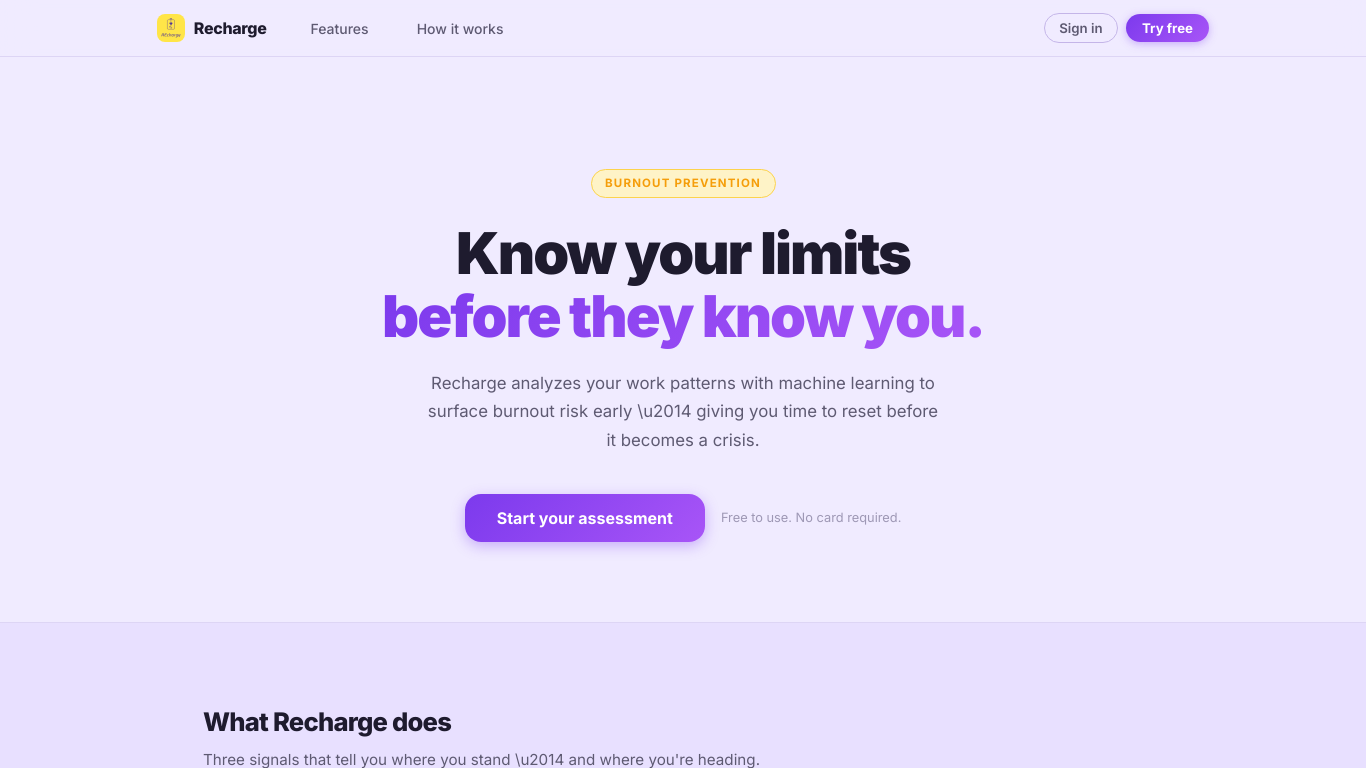
Test case: Auth modal › opens in signup mode when "Try free" is clicked
The image size is (1366, 768).
Click the button "Try free". click: (1168, 28)
box: x1=1126 y1=14 x2=1209 y2=42
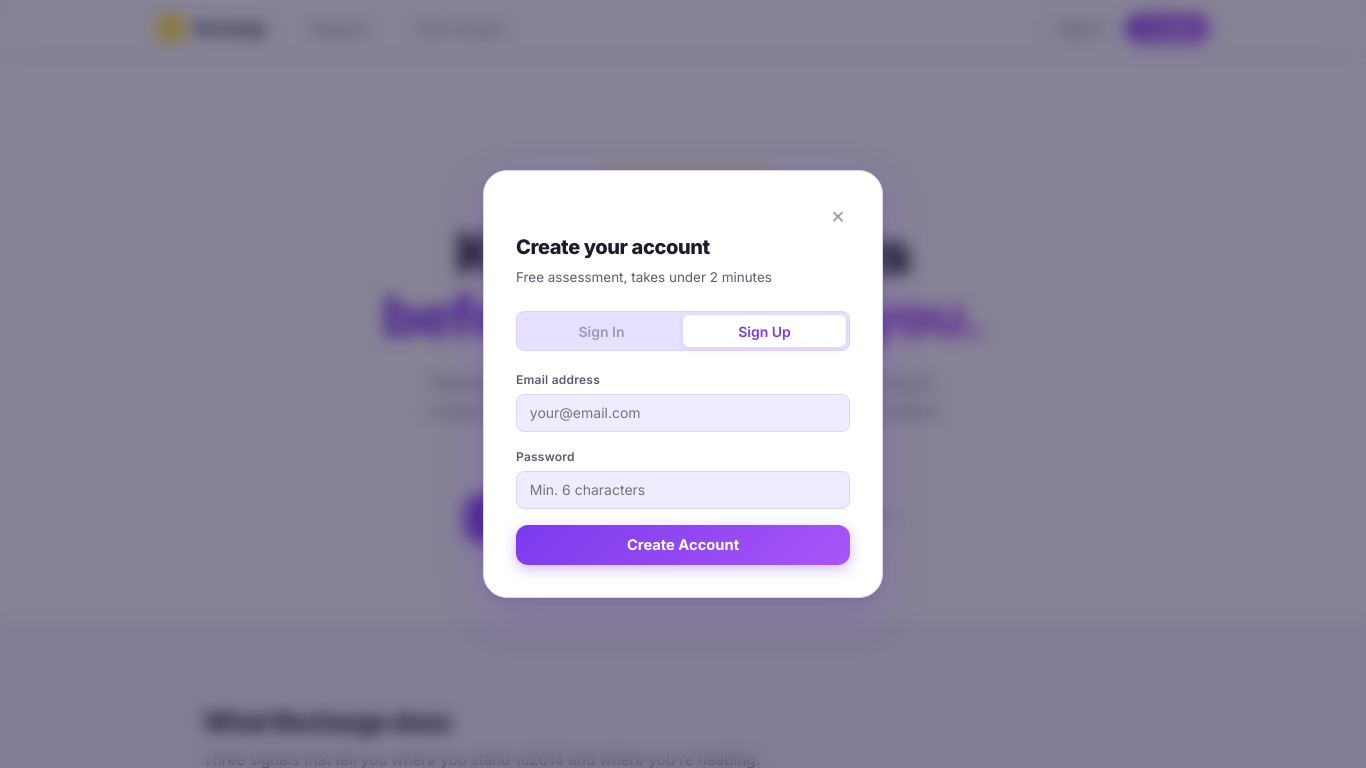
Expected: the button "Create Account" is shown, x1=516 y1=525 x2=850 y2=565
